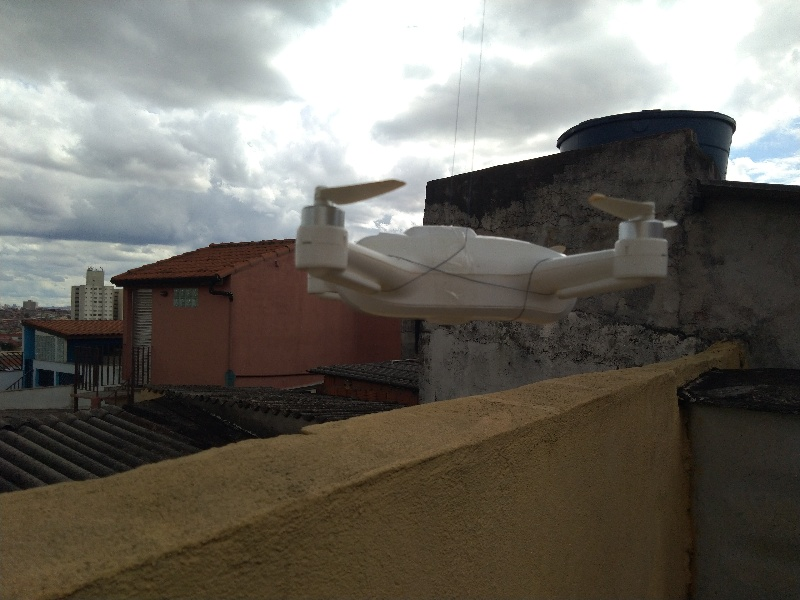drone: (280, 172, 686, 325)
